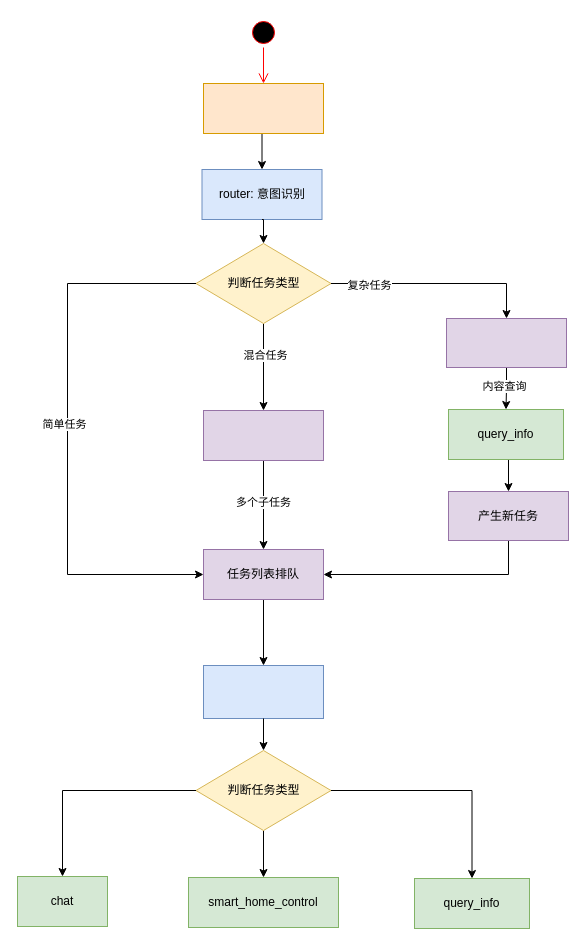
Image size: 586x946. Some labels were removed from this diagram. Each missing label, with the box of its shape:
复杂任务处理: (446, 318, 566, 368)
拆分子任务: (202, 410, 324, 460)
用户输入: (202, 82, 324, 134)
进行简单任务处理: (202, 664, 324, 718)
